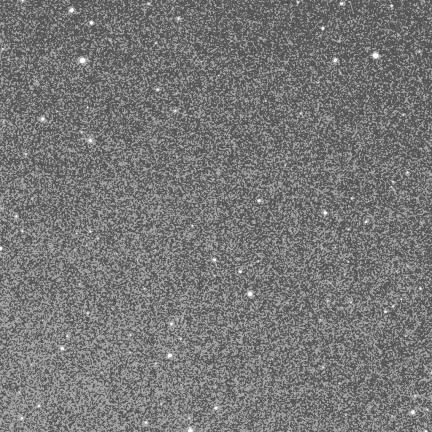blob: (373, 53, 380, 60), (80, 58, 86, 64), (69, 8, 75, 14), (90, 21, 95, 26), (321, 27, 325, 31), (89, 139, 93, 143), (411, 411, 415, 415), (15, 215, 19, 219), (239, 270, 243, 274), (248, 292, 252, 296), (168, 354, 172, 358), (333, 58, 337, 62), (391, 4, 394, 8), (171, 323, 174, 327), (177, 17, 180, 21), (41, 117, 44, 121), (189, 428, 193, 431), (324, 211, 327, 215), (406, 171, 409, 175), (214, 407, 218, 410), (365, 220, 368, 224), (61, 347, 64, 350), (258, 199, 261, 202), (156, 88, 159, 91), (21, 417, 24, 420), (38, 405, 41, 408), (213, 258, 216, 261), (145, 422, 148, 425), (0, 247, 2, 251)
